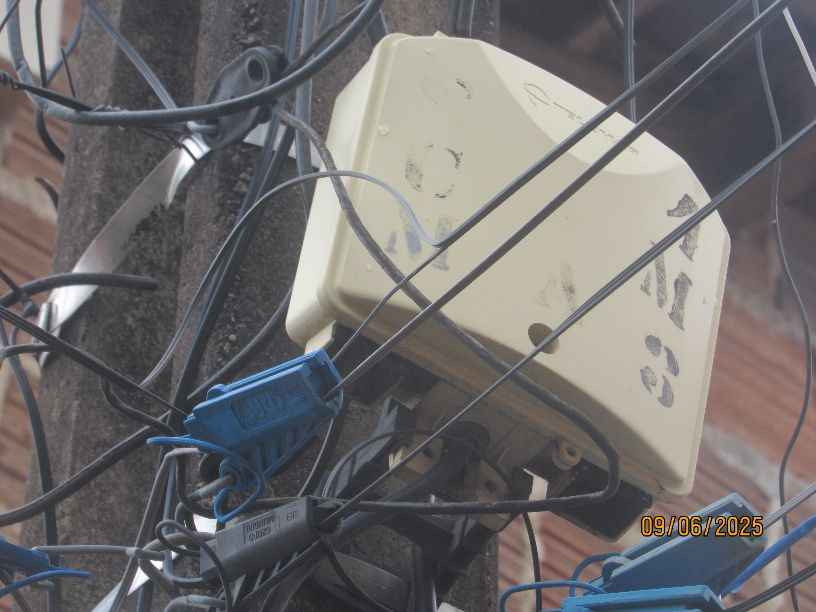drop: (249, 19, 813, 509), (168, 324, 359, 488), (551, 485, 780, 612), (132, 490, 388, 594)
